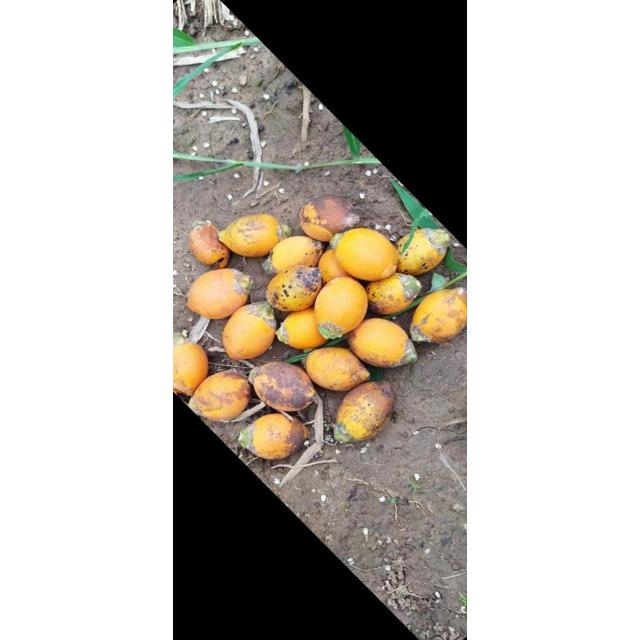good: (186, 370, 256, 427), (335, 382, 394, 444), (347, 318, 416, 370), (250, 362, 316, 415), (186, 268, 250, 322), (336, 228, 399, 282), (315, 278, 368, 342), (240, 412, 307, 461), (222, 304, 275, 362), (306, 346, 370, 394), (410, 290, 466, 344), (300, 196, 360, 244), (218, 214, 280, 260), (266, 266, 324, 314), (396, 228, 450, 277), (364, 274, 424, 318), (267, 266, 320, 313), (272, 236, 326, 278), (173, 344, 210, 398), (277, 311, 325, 352), (189, 222, 230, 270), (320, 242, 348, 287), (458, 289, 466, 306)
